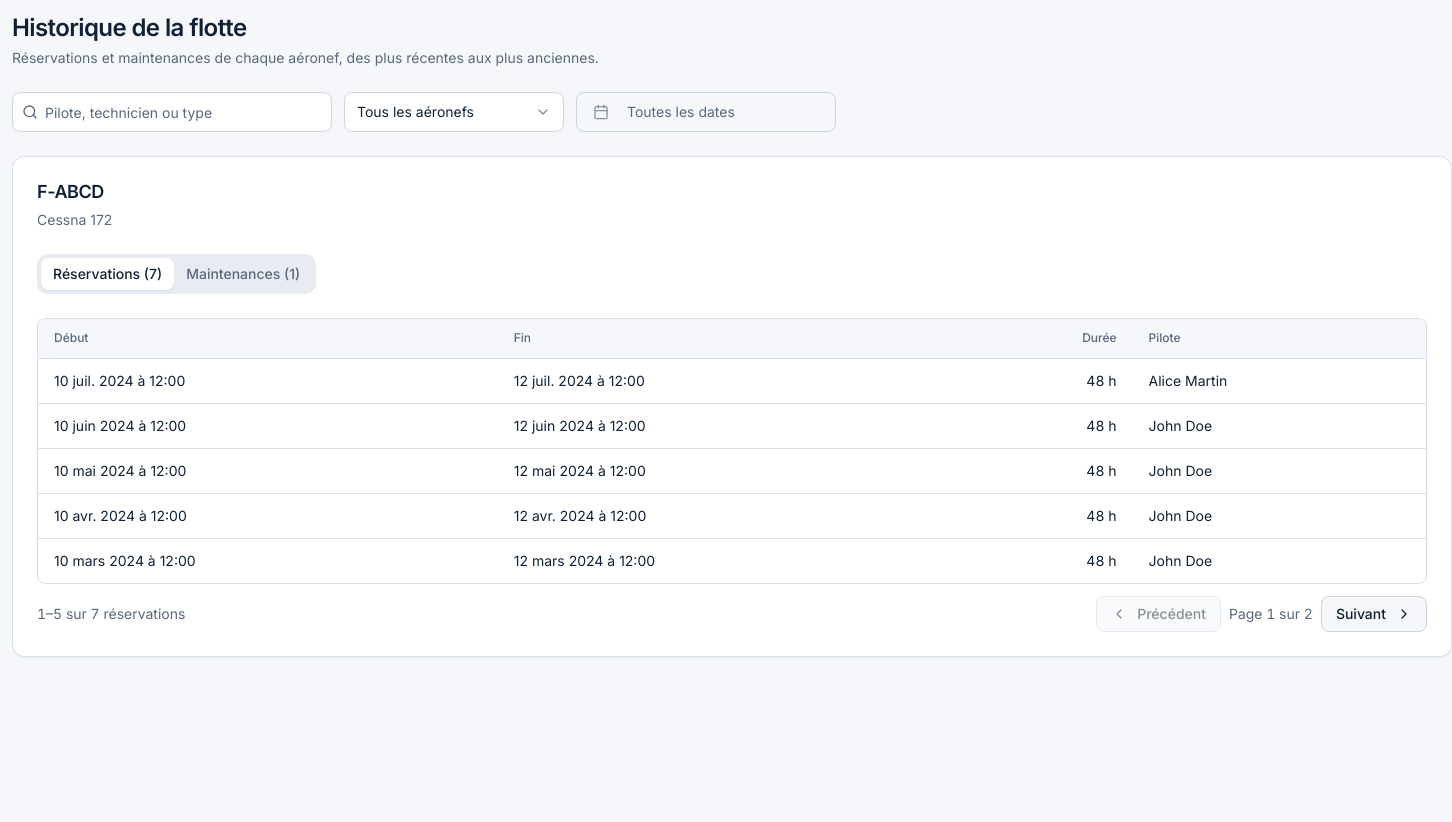
Scenario: AircraftHistory Component › doit afficher une maintenance sans technicien au lieu de planter
The image size is (1452, 822).
Expected: the text "F-ABCD" is shown, [37,181,104,202]
Click the tab "Maintenances (1)" at [243, 274], box [174,258,312,290]
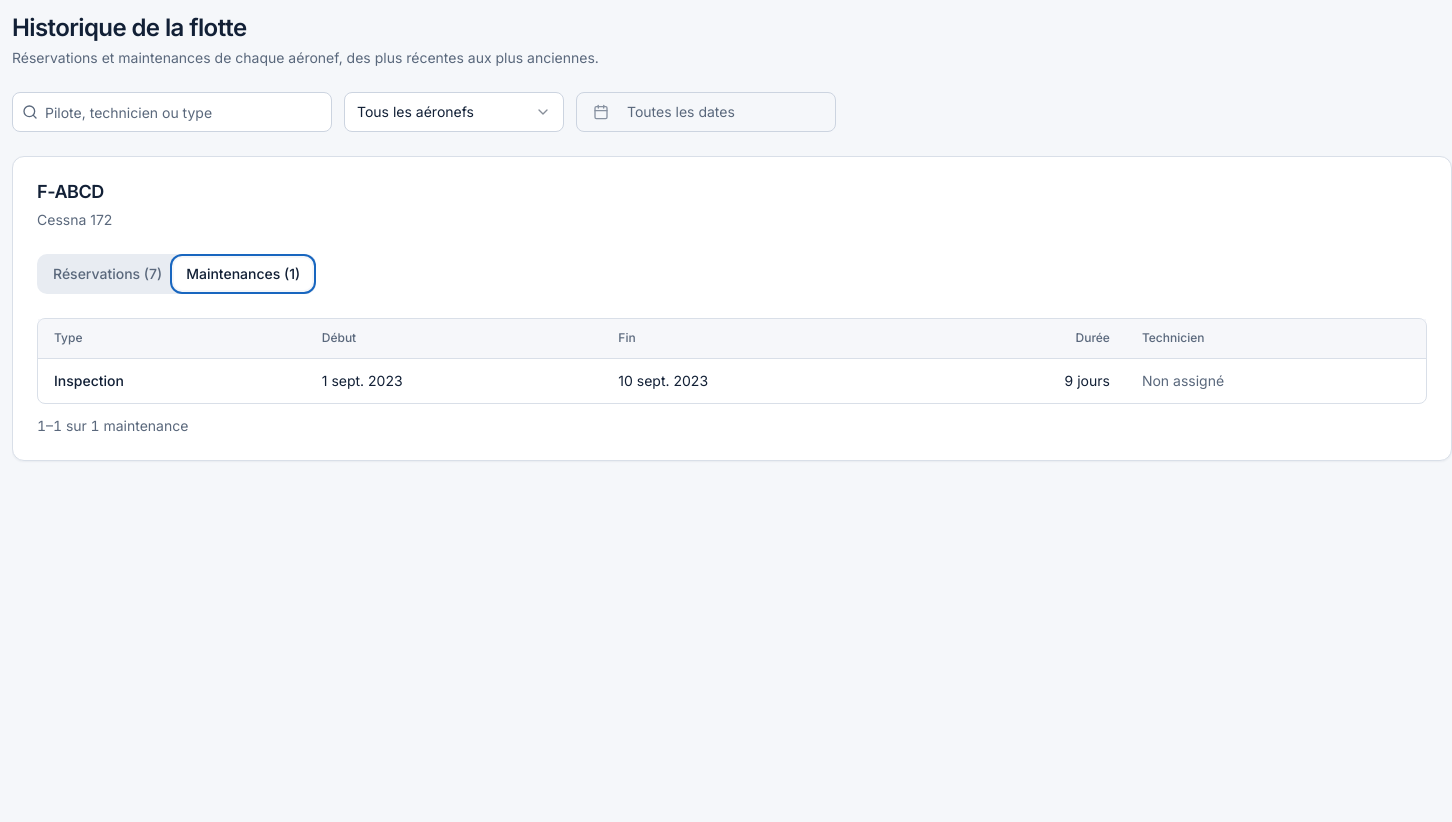
Now the text "Non assigné" is shown, box [1142,372,1224,389]
